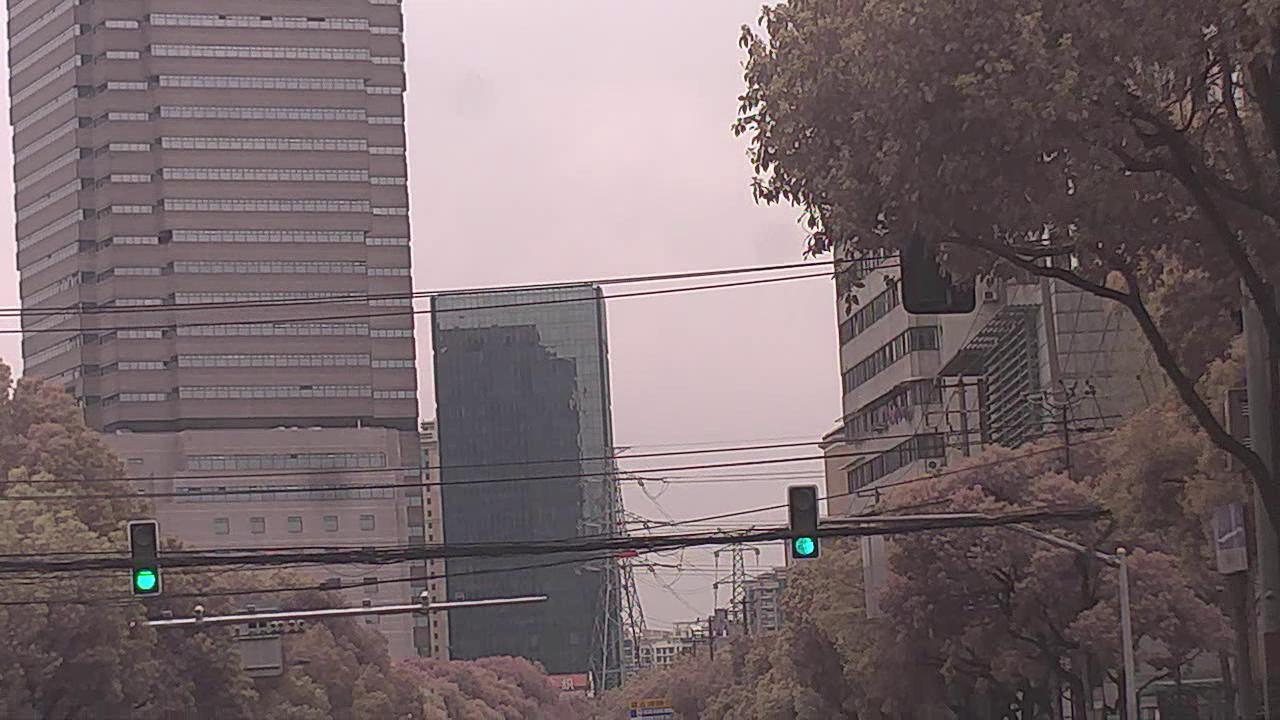traffic_light: (128, 521, 162, 595), (789, 484, 822, 558)
